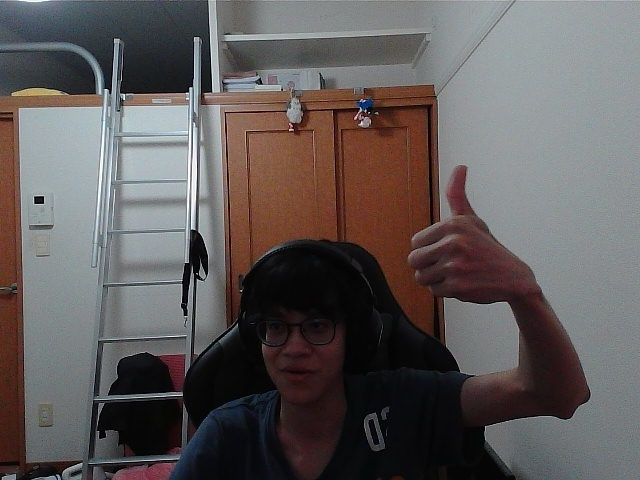thumb_up: (416, 175, 510, 290)
